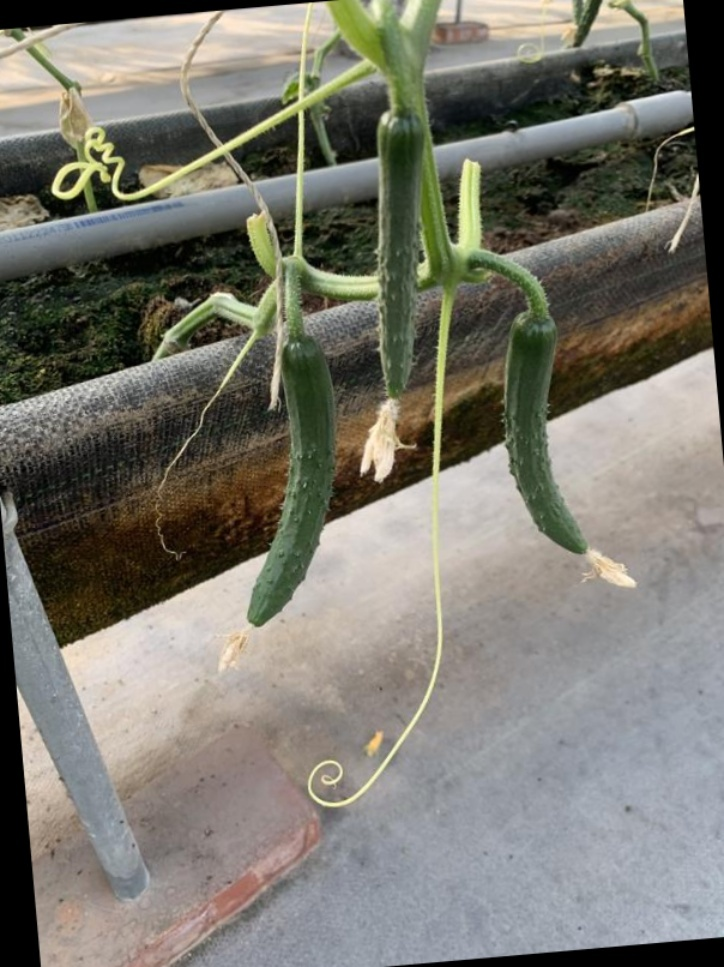growth: (356, 99, 456, 497)
mature: (225, 329, 341, 640), (502, 305, 629, 587)
